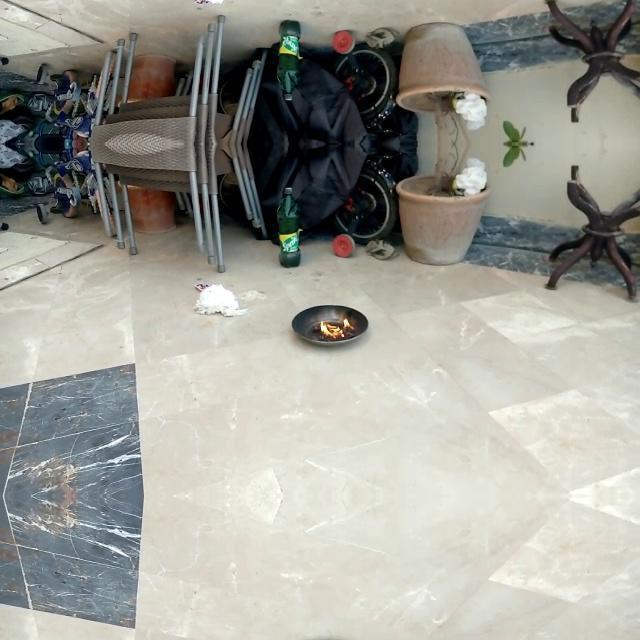smoke: (316, 316, 354, 338)
